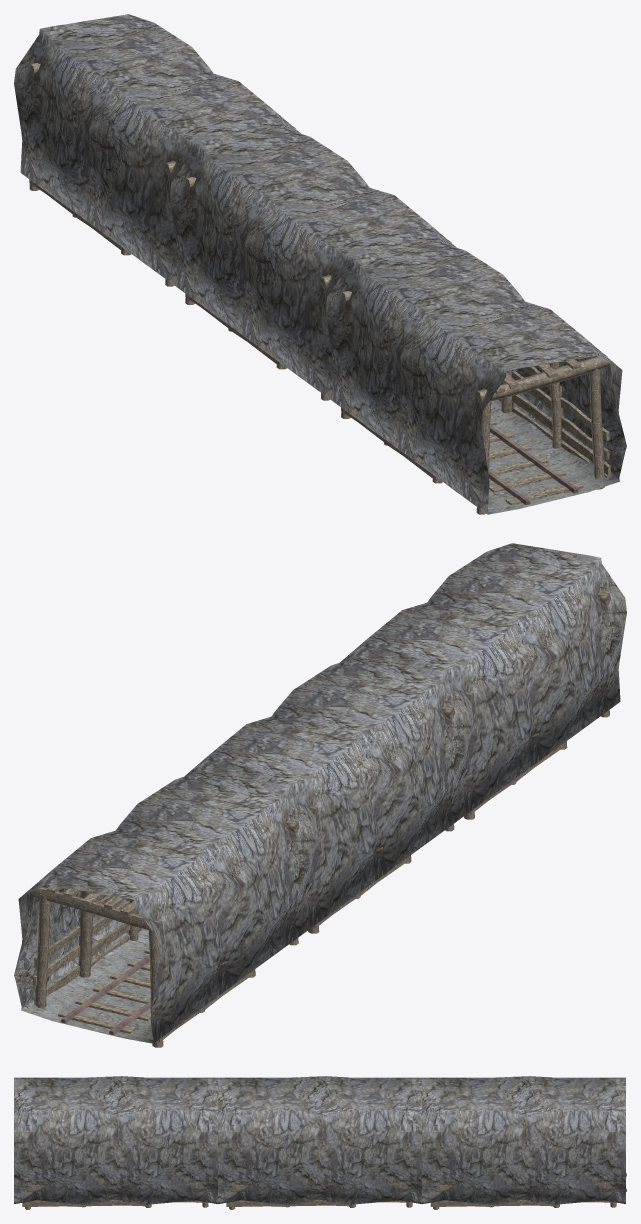
Rendered from Mine001.fbx.
The picture shows the model from 3 angles, top to bottom: view 1: azimuth 30°, elevation 25°; view 2: azimuth 150°, elevation 25°; view 3: azimuth 270°, elevation 25°; orthographic projection. The views are drawn at different scales.
Visible parts, largest first — view 1: Mine.002; view 2: Mine.002; view 3: Mine.002.
Boxes of the visible parts, bbox=[...] form: Mine.002: bbox=[14, 14, 626, 514]; Mine.002: bbox=[14, 543, 626, 1047]; Mine.002: bbox=[14, 1076, 626, 1209].
Bounding box in the file's own units: 386 × 358 × 2014.
